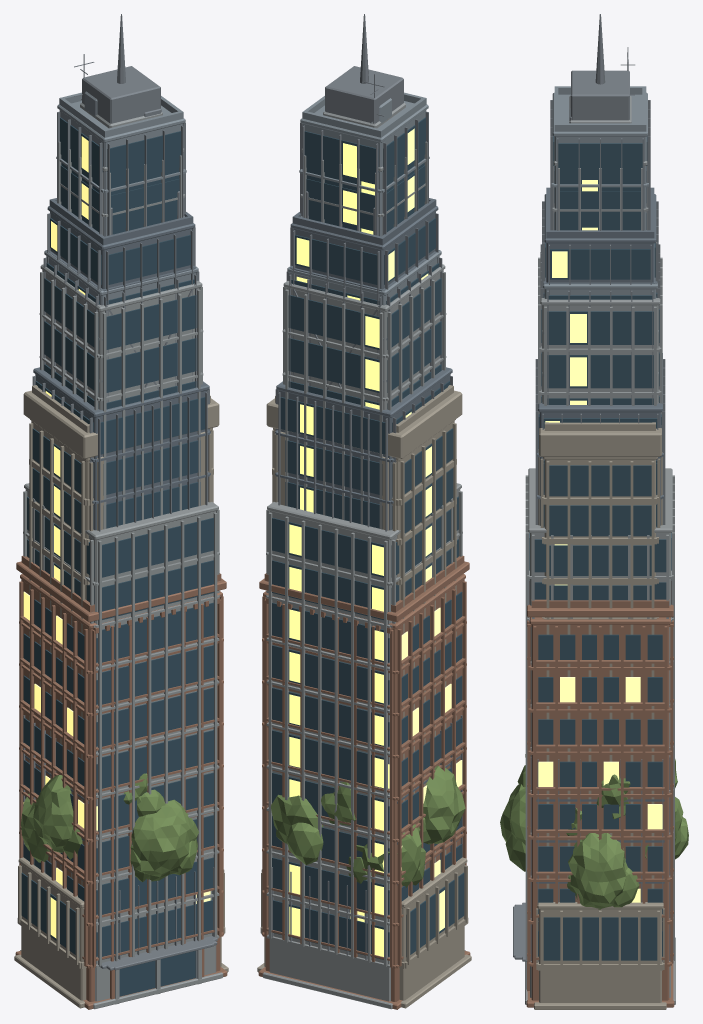
Rendered from city-kit.glb.
3 views of the same model, side by side, from view 1: azimuth 30°, elevation 25°; view 2: azimuth 150°, elevation 25°; view 3: azimuth 270°, elevation 25° (orthographic).
Visible parts, largest first — view 1: Tower_A__Tower_A stone / masonry, Tower_A__Architectural smoked blue glass, Tower_C__Tower_C stone / masonry, Tower_D__Tower_D stone / masonry, Tower_B__Architectural smoked blue glass, Tree_A__Tree layered green canopy, Tower_E__Brushed titanium trim, Tower_B__Tower_B stone / masonry, Tower_E__Architectural smoked blue glass, Tower_E__Tower_E stone / masonry, Tower_B__Brushed titanium trim, Tower_C__Architectural smoked blue glass (+5 smaller); view 2: Tower_A__Tower_A stone / masonry, Tower_A__Architectural smoked blue glass, Tower_C__Tower_C stone / masonry, Tower_D__Tower_D stone / masonry, Tower_B__Architectural smoked blue glass, Tower_B__Tower_B stone / masonry, Tower_E__Brushed titanium trim, Tree_A__Tree layered green canopy, Tower_A__Warm occupied windows, Tower_E__Architectural smoked blue glass, Tower_E__Tower_E stone / masonry, Tower_B__Brushed titanium trim (+6 smaller); view 3: Tower_C__Tower_C stone / masonry, Tower_D__Tower_D stone / masonry, Tower_A__Tower_A stone / masonry, Tower_D__Architectural smoked blue glass, Tower_C__Architectural smoked blue glass, Tower_A__Architectural smoked blue glass, Tree_A__Tree layered green canopy, Tower_E__Architectural smoked blue glass, Tower_B__Tower_B stone / masonry, Tower_E__Brushed titanium trim, Tower_E__Tower_E stone / masonry, Tower_B__Brushed titanium trim (+6 smaller).
Part boxes in pixels (<box>): Tower_A__Tower_A stone / masonry: <box>20,102,223,1009</box>; Tower_A__Architectural smoked blue glass: <box>27,155,213,996</box>; Tower_C__Tower_C stone / masonry: <box>15,556,227,1009</box>; Tower_D__Tower_D stone / masonry: <box>14,385,228,1008</box>; Tower_B__Architectural smoked blue glass: <box>35,218,205,529</box>; Tree_A__Tree layered green canopy: <box>21,773,198,882</box>; Tower_E__Brushed titanium trim: <box>43,54,214,959</box>; Tower_B__Tower_B stone / masonry: <box>25,198,210,964</box>; Tower_E__Architectural smoked blue glass: <box>46,117,194,304</box>; Tower_E__Tower_E stone / masonry: <box>44,91,198,997</box>; Tower_B__Brushed titanium trim: <box>23,191,209,879</box>; Tower_C__Architectural smoked blue glass: <box>23,599,97,956</box>; Tower_A__Tower_A stone / masonry: <box>262,102,465,1009</box>; Tower_A__Architectural smoked blue glass: <box>272,155,458,959</box>; Tower_C__Tower_C stone / masonry: <box>258,556,470,1009</box>; Tower_D__Tower_D stone / masonry: <box>257,385,471,1008</box>; Tower_B__Architectural smoked blue glass: <box>280,218,450,529</box>; Tower_B__Tower_B stone / masonry: <box>275,198,460,964</box>; Tower_E__Brushed titanium trim: <box>271,66,442,959</box>; Tree_A__Tree layered green canopy: <box>271,765,465,887</box>; Tower_A__Warm occupied windows: <box>289,181,383,956</box>; Tower_E__Architectural smoked blue glass: <box>291,117,439,304</box>; Tower_E__Tower_E stone / masonry: <box>287,92,441,892</box>; Tower_B__Brushed titanium trim: <box>275,191,462,879</box>; Tower_C__Tower_C stone / masonry: <box>526,579,674,1007</box>; Tower_D__Tower_D stone / masonry: <box>534,422,666,1009</box>; Tower_A__Tower_A stone / masonry: <box>525,95,675,1004</box>; Tower_D__Architectural smoked blue glass: <box>538,463,662,960</box>; Tower_C__Architectural smoked blue glass: <box>538,634,662,955</box>; Tower_A__Architectural smoked blue glass: <box>529,166,671,604</box>; Tree_A__Tree layered green canopy: <box>500,754,688,909</box>; Tower_E__Architectural smoked blue glass: <box>543,136,657,299</box>; Tower_B__Tower_B stone / masonry: <box>536,187,664,883</box>; Tower_E__Brushed titanium trim: <box>540,47,660,404</box>; Tower_E__Tower_E stone / masonry: <box>542,86,658,376</box>; Tower_B__Brushed titanium trim: <box>530,201,670,962</box>.
Size of the model in its own units: 12.72 by 64.61 by 11.52.
